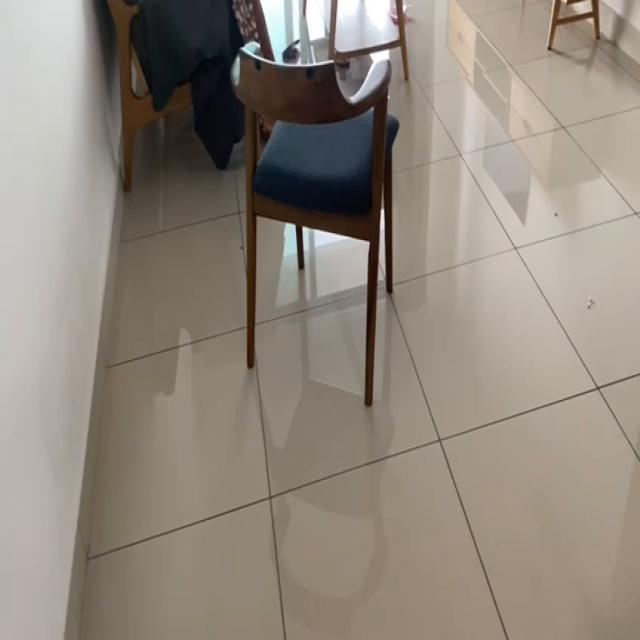Chair: (208, 34, 420, 413)
